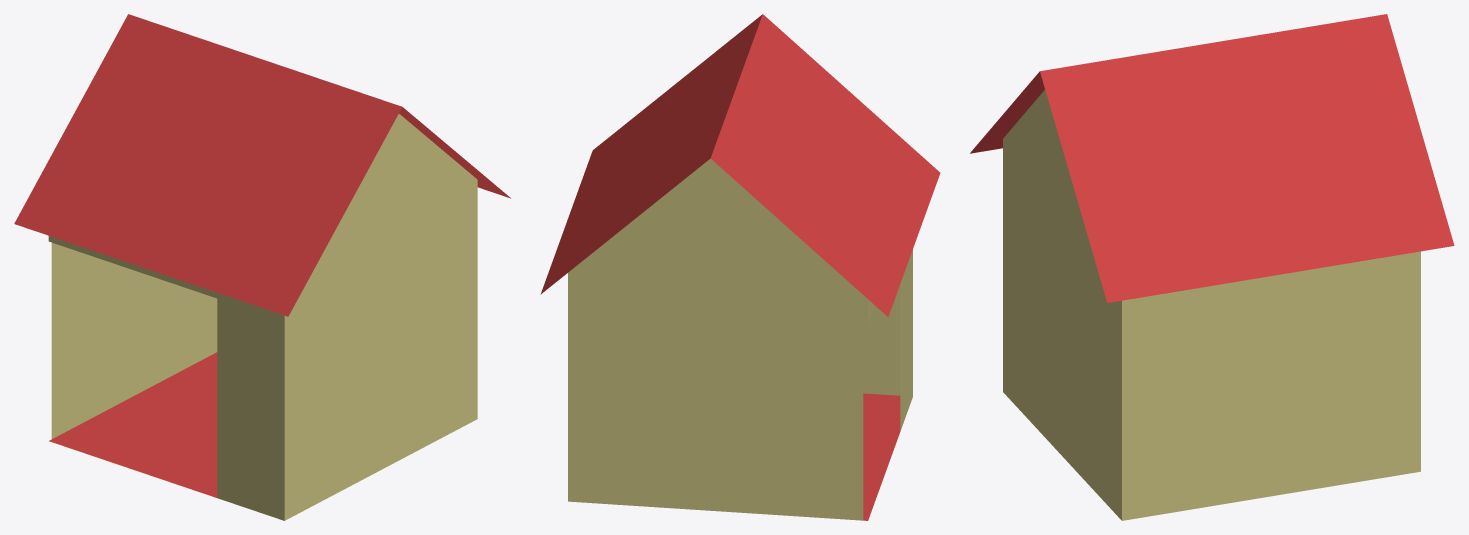
3 views of the same model, side by side, from view 1: azimuth 30°, elevation 25°; view 2: azimuth 150°, elevation 25°; view 3: azimuth 270°, elevation 25° (orthographic). The views are drawn at different scales.
Bounding box in the file's own units: 14.12 × 14.01 × 12.46.
